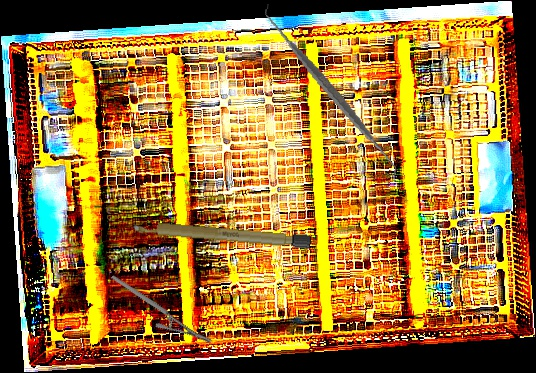Needle Holder: (110, 251, 214, 367)
Scalpel Handle: (130, 219, 312, 249)
Spatula Surgical: (240, 3, 422, 181)
